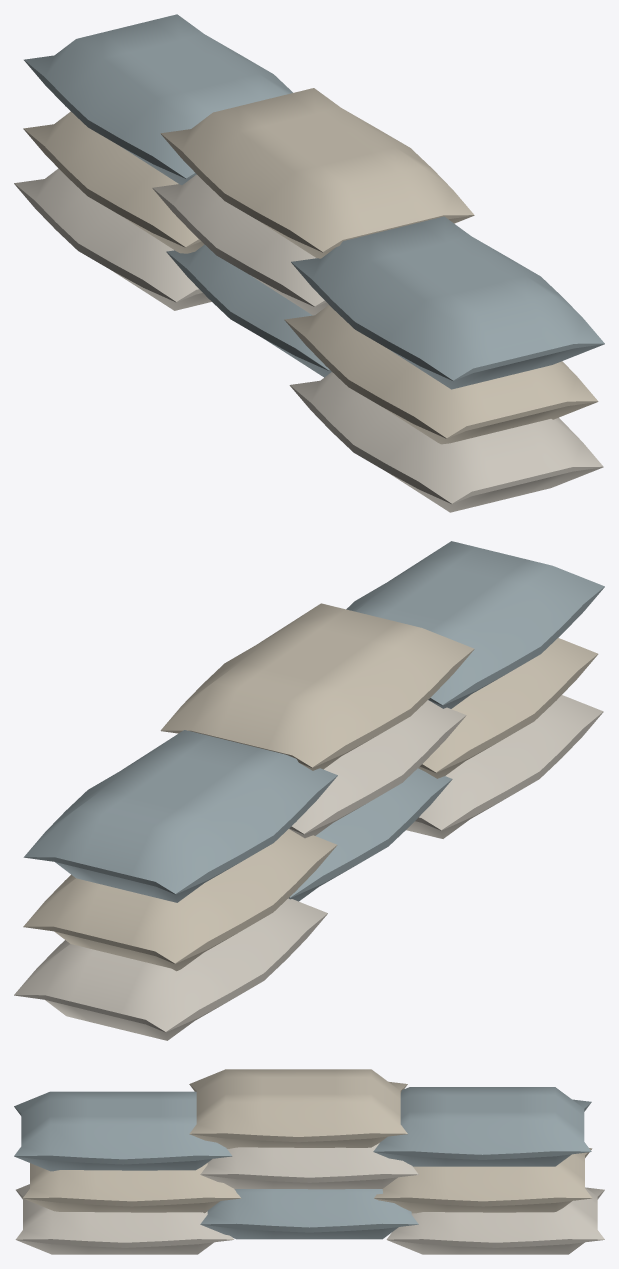
Rendered from Sandbags.fbx.
The picture shows the model from 3 angles, top to bottom: view 1: azimuth 30°, elevation 25°; view 2: azimuth 150°, elevation 25°; view 3: azimuth 270°, elevation 25°; orthographic projection. The views are drawn at different scales.
Parts seen in each view (by area): view 1: pCube11; view 2: pCube11; view 3: pCube11.
Boxes of the visible parts, x1,y1,x2,y2 form: pCube11: (14,14,604,512); pCube11: (14,541,604,1040); pCube11: (14,1069,604,1254).
Bounding box in the file's own units: 5.27 × 5.7 × 20.03.
